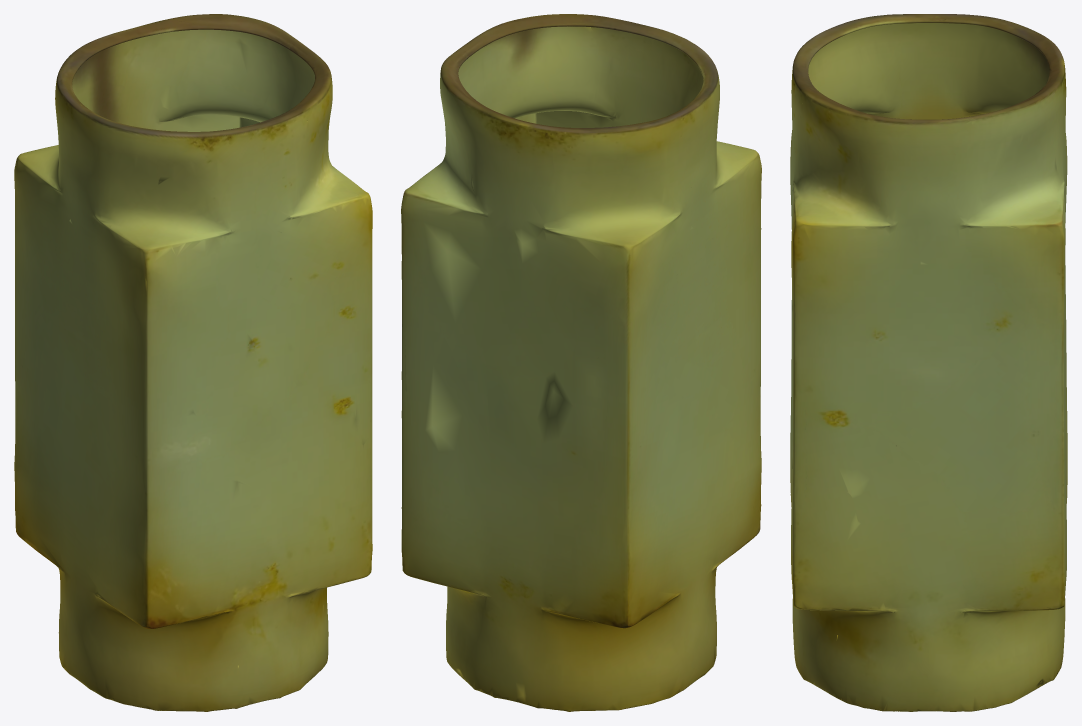
File: guozhong-plain-detail.glb
3 renders of one model, left to right at view 1: azimuth 30°, elevation 25°; view 2: azimuth 150°, elevation 25°; view 3: azimuth 270°, elevation 25°, orthographic. The views are drawn at different scales.
Parts seen in each view (by area): view 1: node_0; view 2: node_0; view 3: node_0.
Boxes of the visible parts, x1,y1,x2,y2 form: node_0: (14,14,372,711); node_0: (401,14,761,711); node_0: (790,14,1067,711).
Bounding box in the file's own units: 0.4637 × 1.1 × 0.4641.
1 material, 1 textured.
